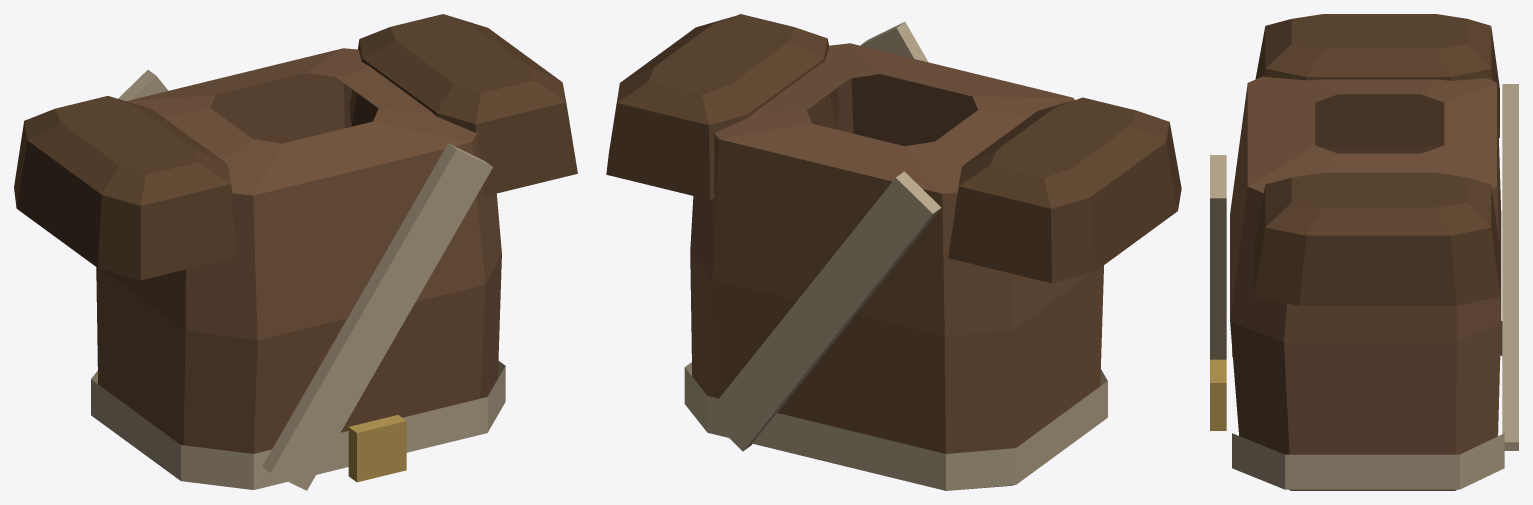
File: jerkin.glb
3 views of the same model, side by side, from view 1: azimuth 30°, elevation 25°; view 2: azimuth 150°, elevation 25°; view 3: azimuth 270°, elevation 25° (orthographic). The views are drawn at different scales.
Visible parts, largest first — view 1: jerkin_spine; view 2: jerkin_spine; view 3: jerkin_spine.
Part boxes in pixels (bbox=[...]): jerkin_spine: bbox=[14, 14, 577, 490]; jerkin_spine: bbox=[606, 14, 1181, 490]; jerkin_spine: bbox=[1210, 14, 1518, 490].
Bounding box in the file's own units: 0.91 × 0.58 × 0.526.
